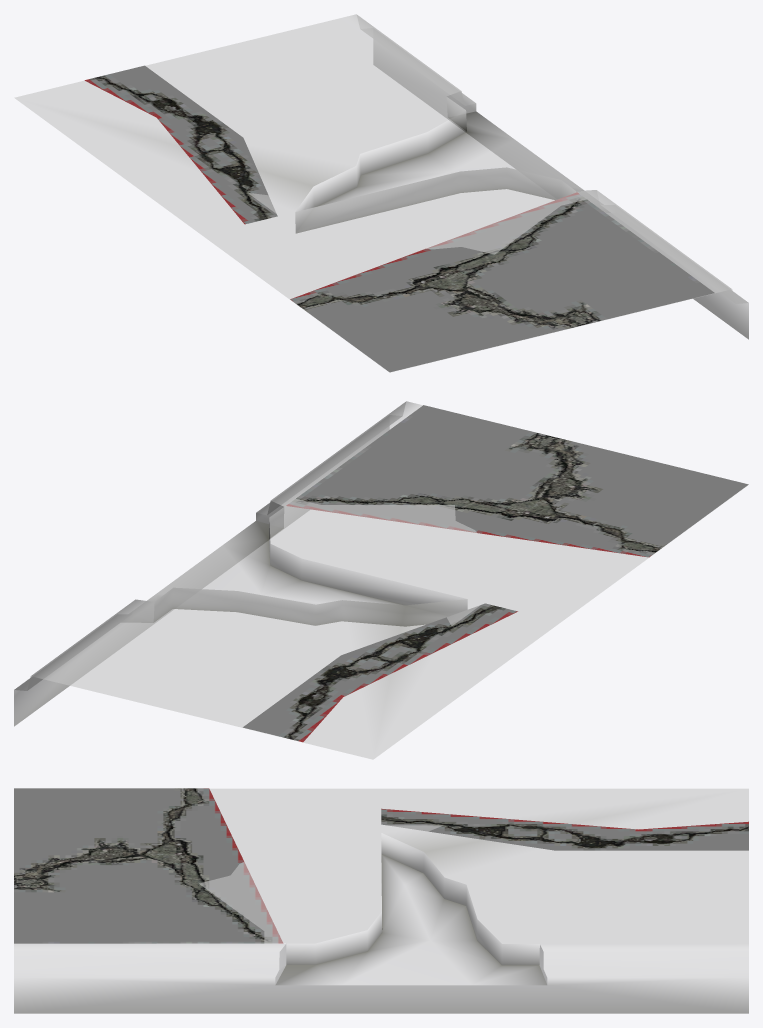
The model's file is SWDoubleEdge02.FBX.
3 views of the same model, one above another, from view 1: azimuth 30°, elevation 25°; view 2: azimuth 150°, elevation 25°; view 3: azimuth 270°, elevation 25° (orthographic). The views are drawn at different scales.
Visible parts, largest first — view 1: Slab, Cracks; view 2: Slab, Cracks; view 3: Slab, Cracks.
Boxes of the visible parts, <box> form: Slab: <box>14,14,748,372</box>; Cracks: <box>84,65,714,372</box>; Slab: <box>14,401,747,759</box>; Cracks: <box>243,405,748,742</box>; Slab: <box>14,788,748,1013</box>; Cracks: <box>14,788,748,943</box>.
Size of what is drawn, in the model's own units: 2.83 by 0.4152 by 5.12.
